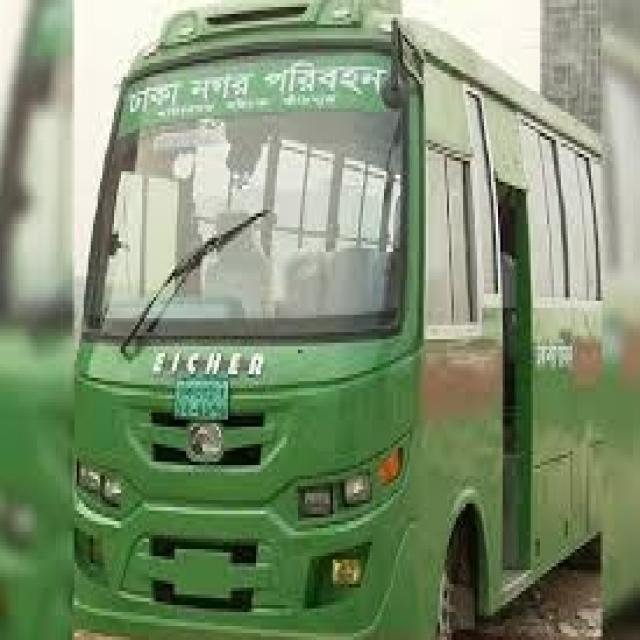bus: (76, 0, 608, 640)
